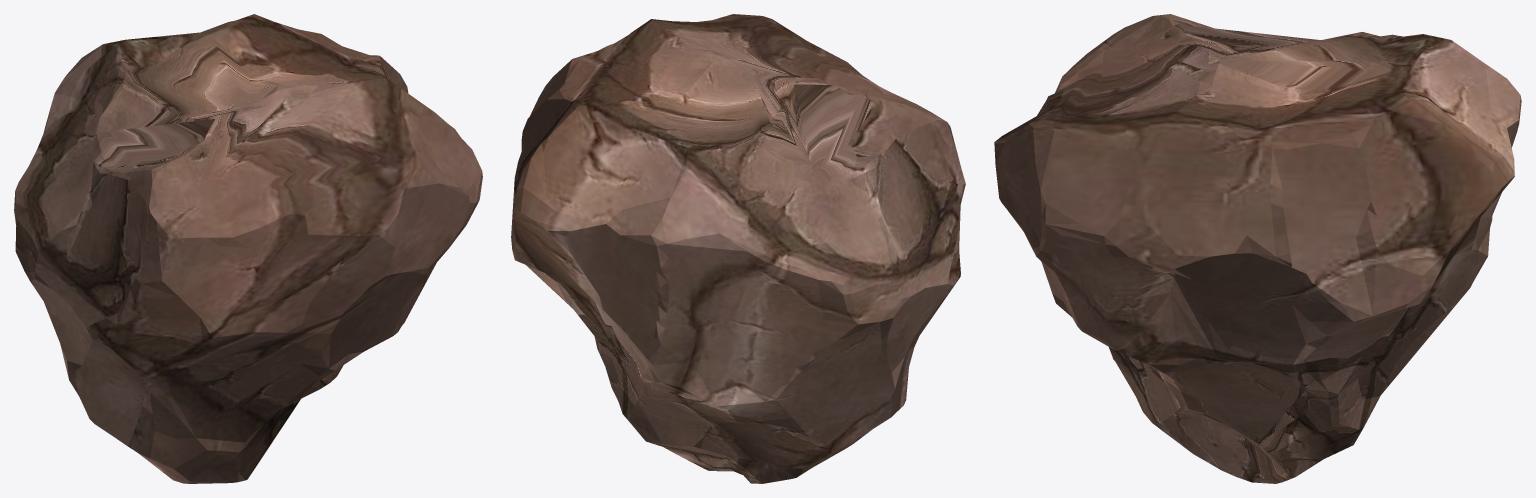
File: stone_03.fbx
3 renders of one model, left to right at view 1: azimuth 30°, elevation 25°; view 2: azimuth 150°, elevation 25°; view 3: azimuth 270°, elevation 25°, orthographic. The views are drawn at different scales.
Parts seen in each view (by area): view 1: rock03; view 2: rock03; view 3: rock03.
Part boxes in pixels (x1=…): rock03: x1=14, y1=14, x2=482, y2=483; rock03: x1=511, y1=14, x2=965, y2=483; rock03: x1=994, y1=14, x2=1521, y2=483.
Bounding box in the file's own units: 4.39 × 4.92 × 4.46.
